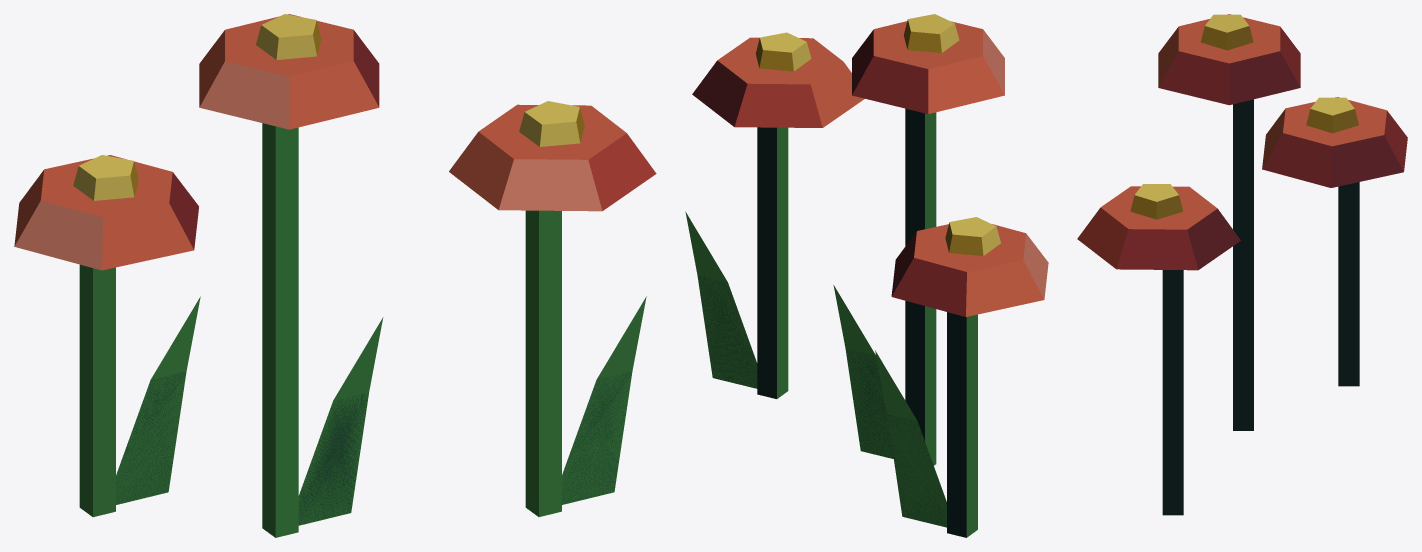
The model's file is flower_red.glb.
3 views of the same model, side by side, from view 1: azimuth 30°, elevation 25°; view 2: azimuth 150°, elevation 25°; view 3: azimuth 270°, elevation 25° (orthographic). The views are drawn at different scales.
Parts seen in each view (by area): view 1: flower_red; view 2: flower_red; view 3: flower_red.
Boxes of the visible parts, x1=… form: flower_red: x1=14, y1=14, x2=656, y2=537; flower_red: x1=685, y1=14, x2=1048, y2=537; flower_red: x1=1077, y1=14, x2=1407, y2=515.
Bounding box in the file's own units: 0.4099 × 0.38 × 0.2822.
